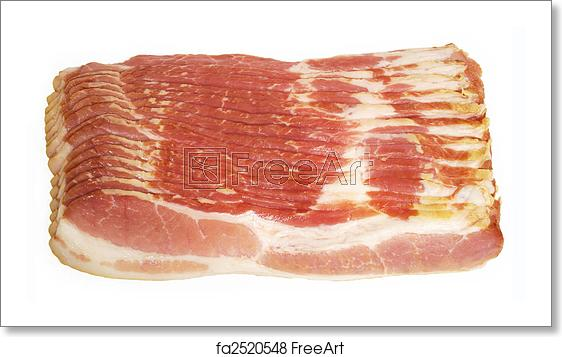bacon: (57, 40, 514, 297)
